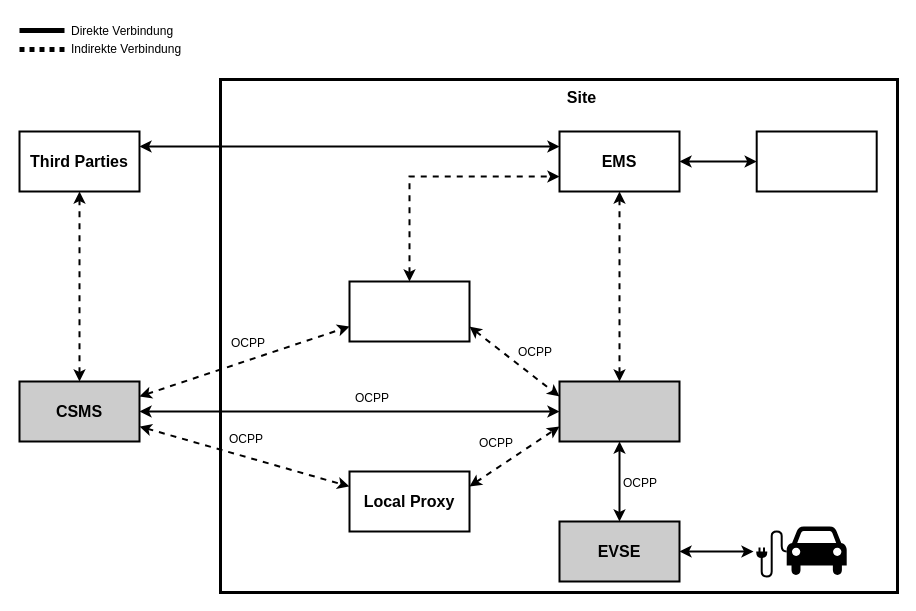
Some shapes in this 916 by 611 pixel diagram are drawn without their labels. The box of each missing label's shape, as (x1, y1, x2, y2) in pixels:
Charging Station: (558, 380, 680, 442)
e.g PV, battery: (755, 130, 877, 192)
Local Controller: (348, 280, 470, 342)
